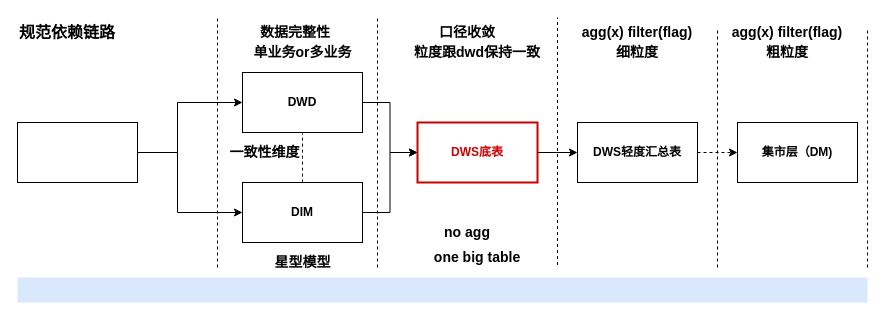
The diagram is 886 pixels wide and 320 high, and some of its shapes have lost their labels. The shapes that lost their labels are listed below. From the top down, each one's box as (x1, y1, x2, y2) in pixels, then its label:
(16, 122, 138, 182): ODS
(17, 277, 867, 302): 数据链路清晰化
